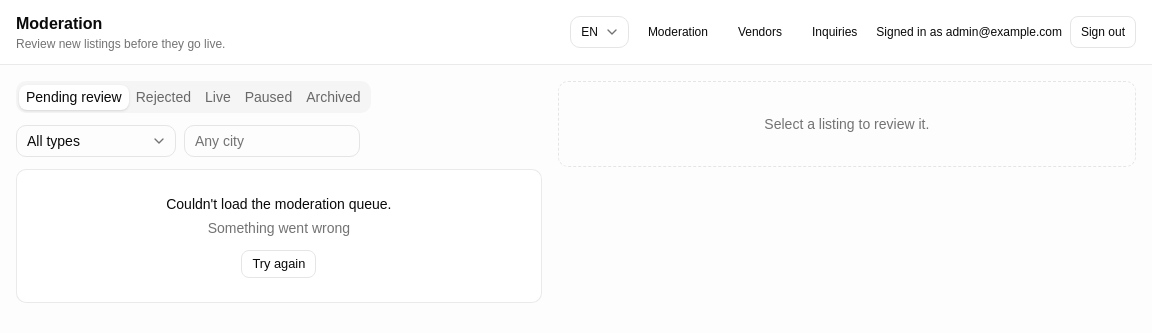
Scenario: the queue › shows an error with a retry that asks again
Check: the text "Couldn't load the moderation queue." is shown, box [166,196,392,212]
Click the button "Try again".
click(279, 264)  # box [241,250,316,278]
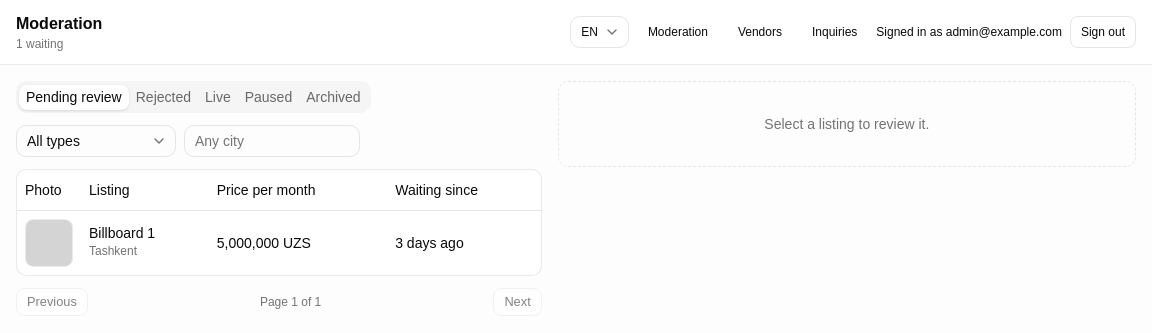
Check: the link "Billboard 1" is shown, box [89,224,155,240]
